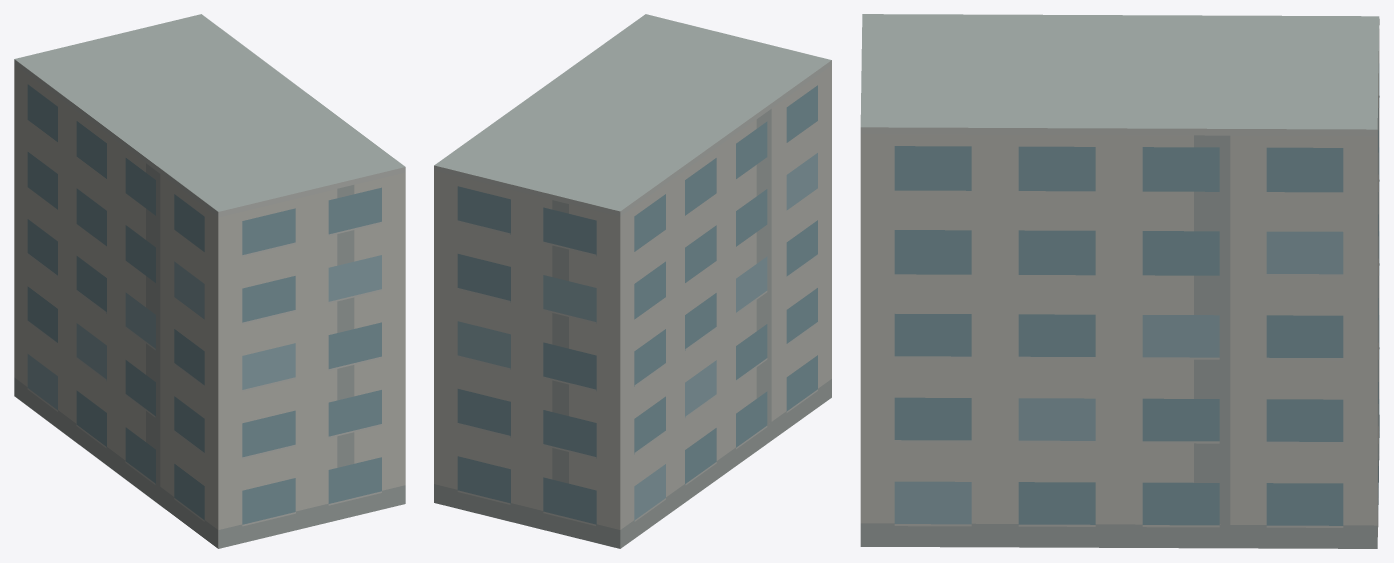
File: survey-upis-32953602.glb
3 renders of one model, left to right at view 1: azimuth 30°, elevation 25°; view 2: azimuth 150°, elevation 25°; view 3: azimuth 270°, elevation 25°, orthographic. The views are drawn at different scales.
Parts seen in each view (by area): view 1: survey-upis-32953602.tmp; view 2: survey-upis-32953602.tmp; view 3: survey-upis-32953602.tmp.
Part boxes in pixels (box(x1,y1,x2,y2)): survey-upis-32953602.tmp: box(14, 14, 405, 548); survey-upis-32953602.tmp: box(434, 14, 831, 548); survey-upis-32953602.tmp: box(860, 14, 1379, 548).
Bounding box in the file's own units: 9.02 × 15.25 × 17.11.
